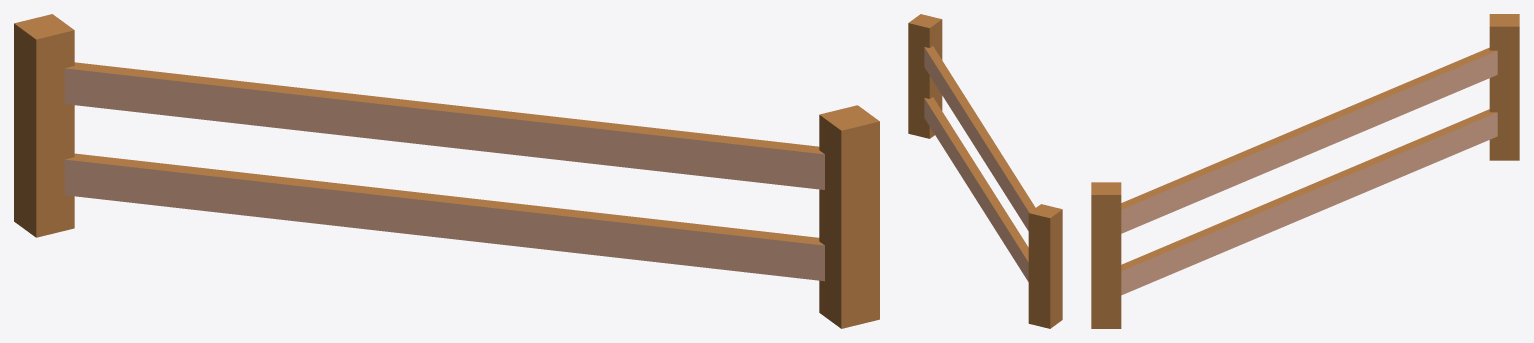
File: fence_simpleDiagonal.glb
The picture shows the model from 3 angles, left to right: view 1: azimuth 30°, elevation 25°; view 2: azimuth 150°, elevation 25°; view 3: azimuth 270°, elevation 25°; orthographic projection. The views are drawn at different scales.
Parts seen in each view (by area): view 1: fence_simpleDiagonal; view 2: fence_simpleDiagonal; view 3: fence_simpleDiagonal.
Part boxes in pixels (<box>): fence_simpleDiagonal: <box>14,14,879,328</box>; fence_simpleDiagonal: <box>908,14,1062,328</box>; fence_simpleDiagonal: <box>1091,14,1519,328</box>.
Bounding box in the file's own units: 1 × 0.345 × 1.
